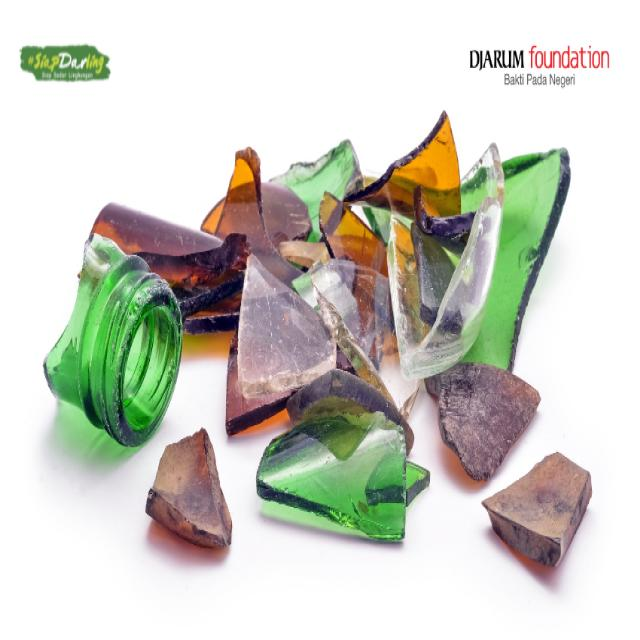Anorganik: (31, 107, 602, 586)
